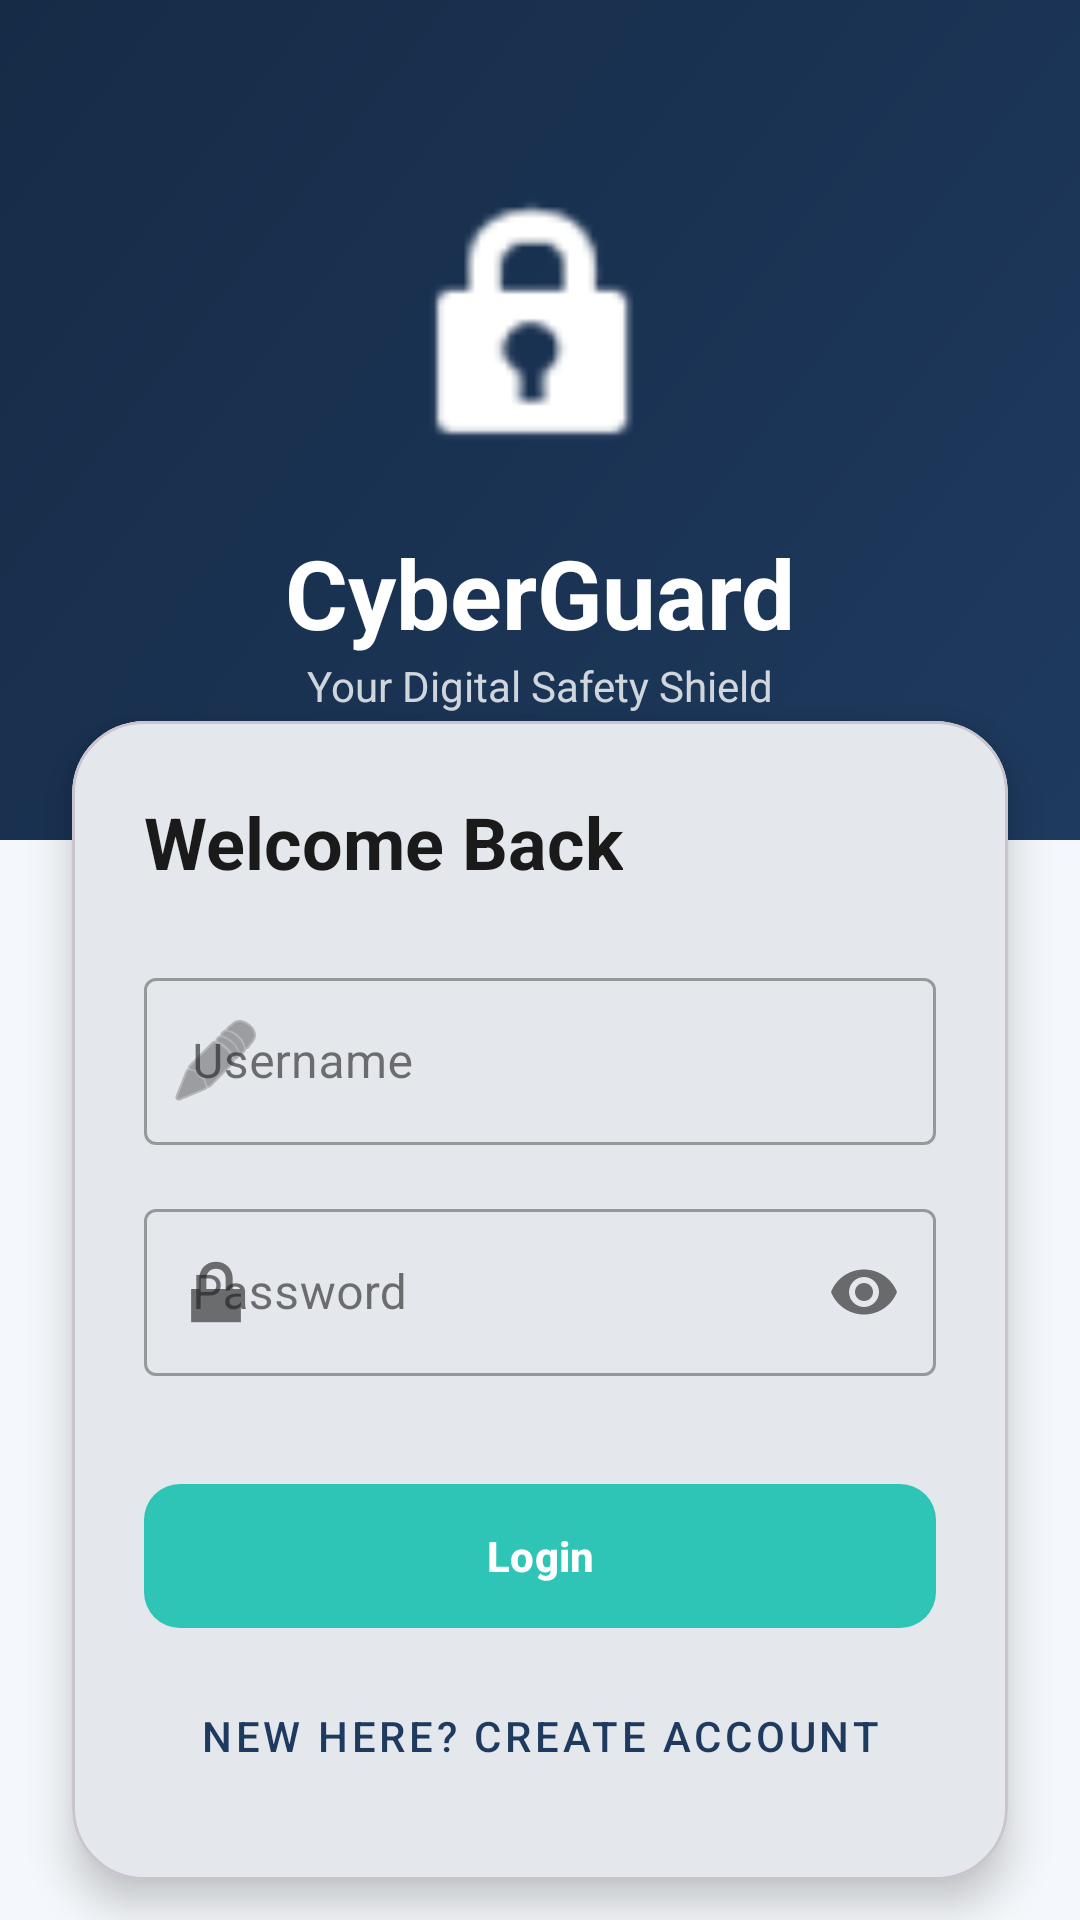

Icon bounding boxes for this 1080w x 1920h phone screenshot, format (x1, y1, x2, y2):
lock idle: (434, 205, 632, 436)
